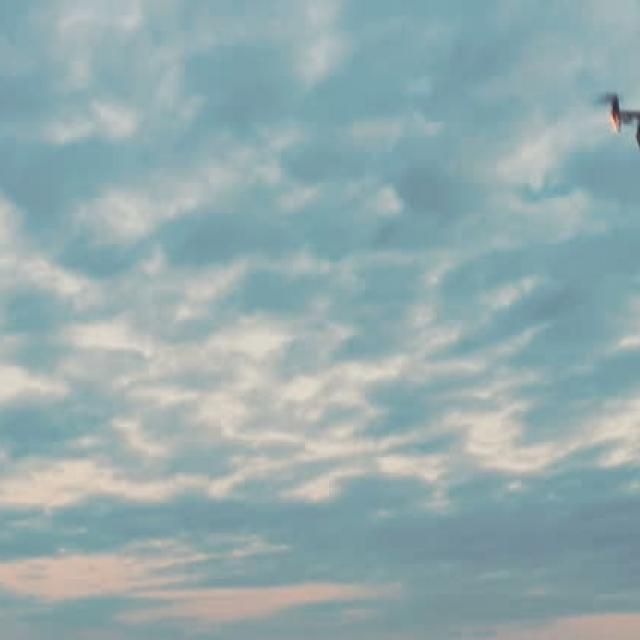drone: (584, 59, 640, 192)
